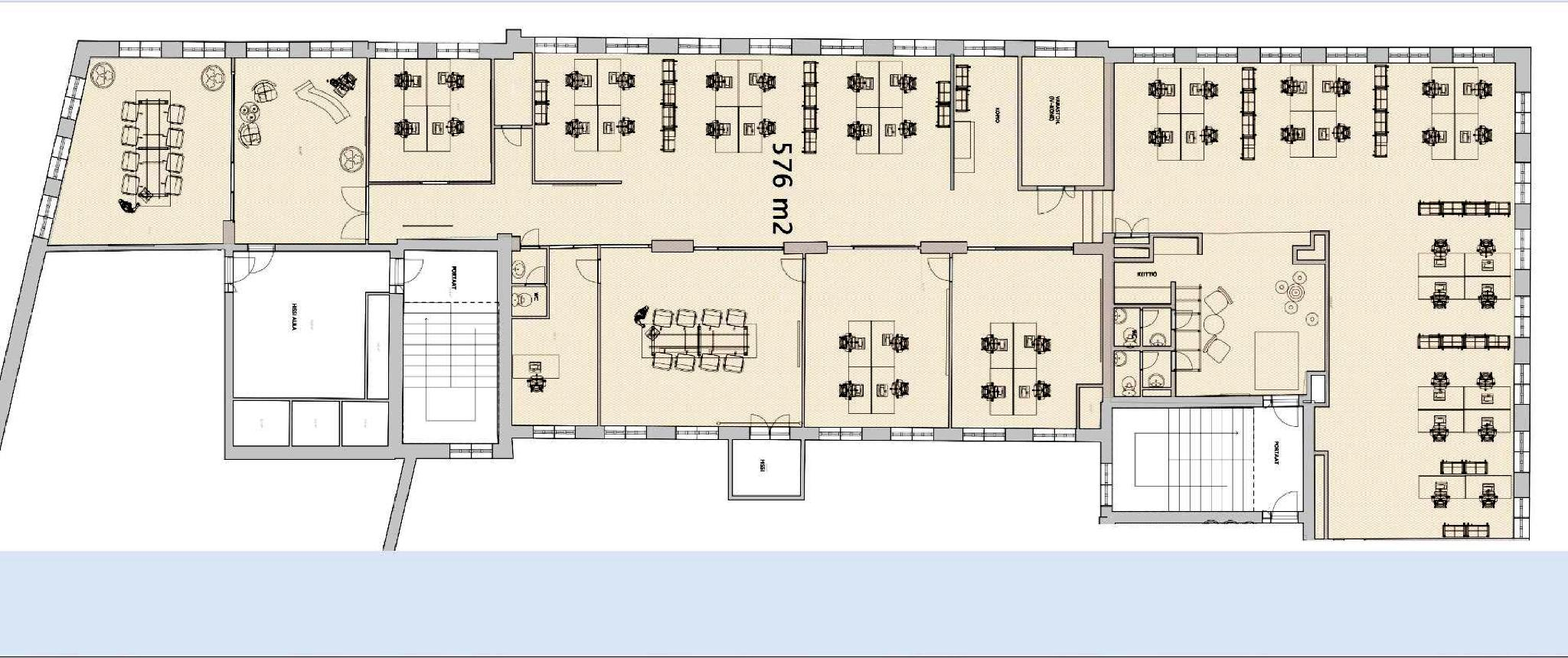door: (334, 182, 371, 242), (1261, 391, 1302, 432), (385, 259, 423, 293), (744, 414, 792, 440), (1264, 492, 1302, 523), (570, 258, 603, 290), (925, 254, 954, 289), (1036, 186, 1077, 210), (1108, 215, 1152, 237), (221, 260, 255, 285), (248, 244, 280, 270), (781, 259, 811, 285), (498, 122, 522, 152), (526, 267, 550, 290), (518, 228, 539, 254)
window: (21, 73, 88, 241), (447, 439, 495, 465), (1509, 92, 1536, 134), (1511, 227, 1534, 276), (1258, 43, 1303, 68), (532, 37, 585, 58), (601, 35, 653, 56), (310, 37, 354, 61), (1384, 48, 1433, 69), (372, 41, 420, 61), (891, 37, 936, 58), (1511, 363, 1531, 408), (1511, 498, 1534, 537), (1511, 294, 1531, 335), (530, 427, 575, 445), (962, 39, 1004, 58), (1514, 436, 1535, 474), (181, 39, 227, 56), (437, 39, 476, 59), (1513, 164, 1533, 202), (675, 41, 719, 58), (1195, 48, 1239, 65), (1098, 462, 1115, 506), (1323, 48, 1364, 66), (1031, 429, 1072, 447), (677, 423, 720, 440), (248, 37, 288, 55), (820, 39, 860, 57), (816, 425, 858, 442), (963, 427, 1002, 445), (750, 39, 788, 57), (1132, 48, 1176, 63), (1036, 41, 1076, 57), (120, 41, 158, 57), (1451, 49, 1492, 63), (889, 428, 929, 441), (605, 427, 648, 439)
zone: (1113, 63, 1518, 533), (365, 56, 1110, 246), (603, 246, 798, 425), (51, 54, 230, 244), (1116, 237, 1323, 393), (235, 252, 384, 445), (806, 247, 946, 430), (954, 254, 1099, 429), (235, 58, 364, 243), (1112, 409, 1302, 513), (404, 252, 496, 441), (509, 246, 595, 427)
